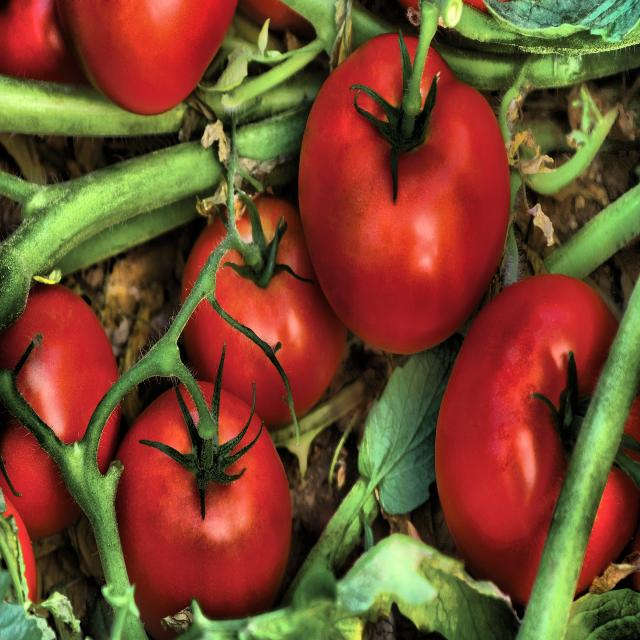tomato: (295, 19, 511, 346), (117, 372, 304, 628)
